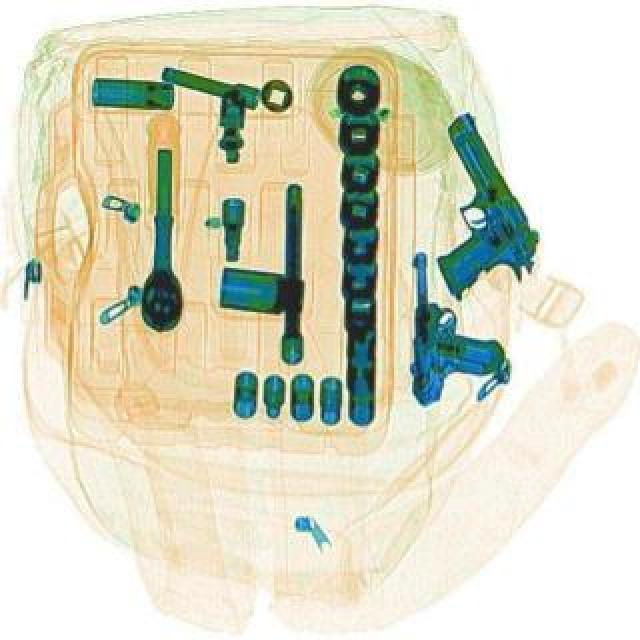gun: (374, 112, 552, 312), (404, 252, 504, 408)
